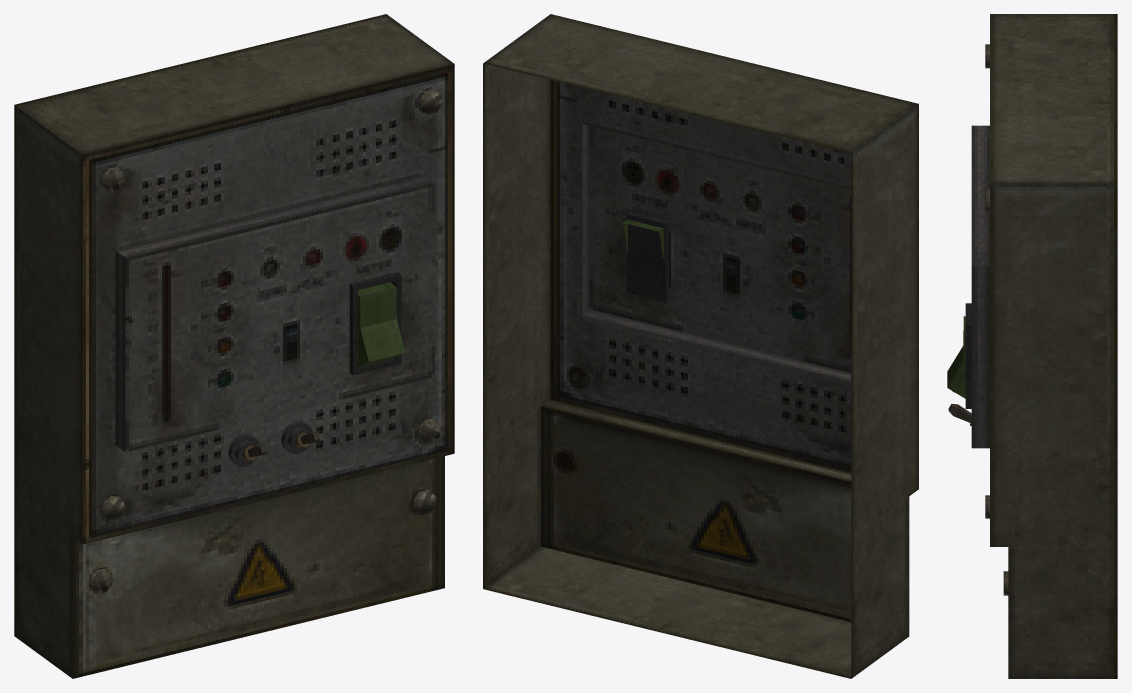
Rendered from panel_etx_1.glb.
3 views of the same model, side by side, from view 1: azimuth 30°, elevation 25°; view 2: azimuth 150°, elevation 25°; view 3: azimuth 270°, elevation 25° (orthographic). The views are drawn at different scales.
Parts seen in each view (by area): view 1: panel_etx_1, panel_etx_1_button_child; view 2: panel_etx_1; view 3: panel_etx_1, panel_etx_1_button_child.
Boxes of the visible parts, bbox=[...] form: panel_etx_1: bbox=[14, 14, 454, 678]; panel_etx_1_button_child: bbox=[358, 282, 405, 366]; panel_etx_1: bbox=[483, 14, 918, 678]; panel_etx_1: bbox=[948, 14, 1117, 678]; panel_etx_1_button_child: bbox=[947, 316, 965, 398].
Bounding box in the file's own units: 0.44 × 0.6 × 0.1866.
2 materials, 2 textured.
